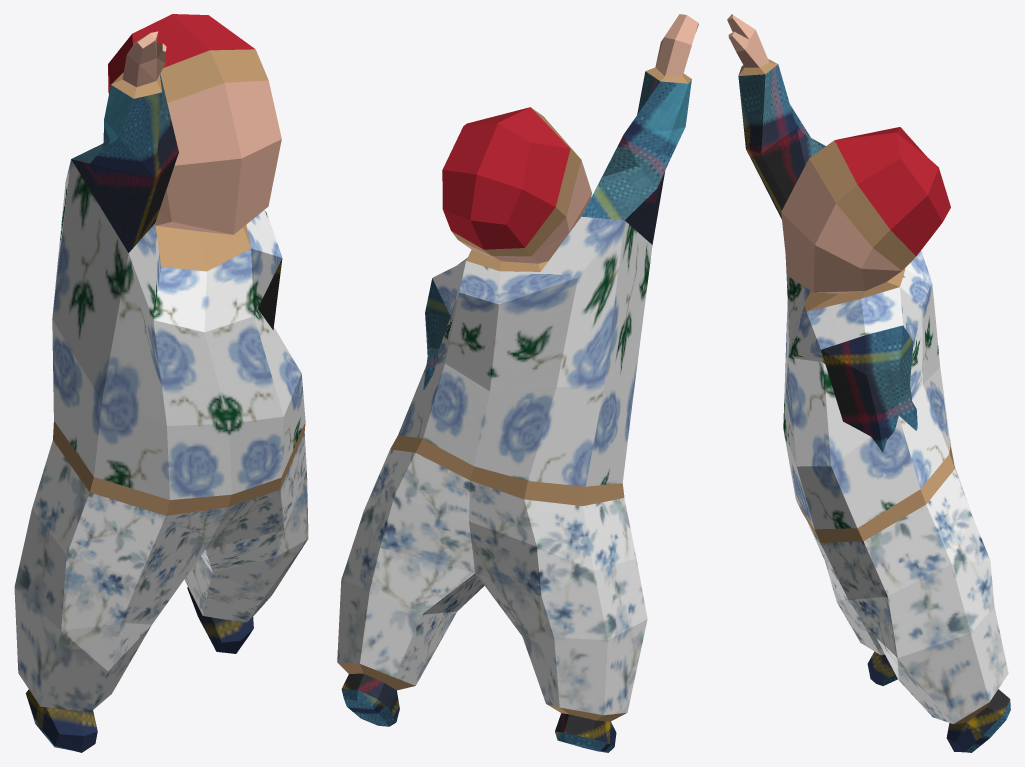
Rendered from SpringBaby.004.glb.
3 renders of one model, left to right at view 1: azimuth 30°, elevation 25°; view 2: azimuth 150°, elevation 25°; view 3: azimuth 270°, elevation 25°, orthographic. The views are drawn at different scales.
Visible parts, largest first — view 1: SpringBaby.004; view 2: SpringBaby.004; view 3: SpringBaby.004.
Part boxes in pixels (x1=…): SpringBaby.004: x1=14, y1=14, x2=308, y2=752; SpringBaby.004: x1=337, y1=14, x2=698, y2=752; SpringBaby.004: x1=727, y1=14, x2=1010, y2=752.
Bounding box in the file's own units: 0.2437 × 0.6559 × 0.2549.
Materials: 1 (1 with a texture image).
